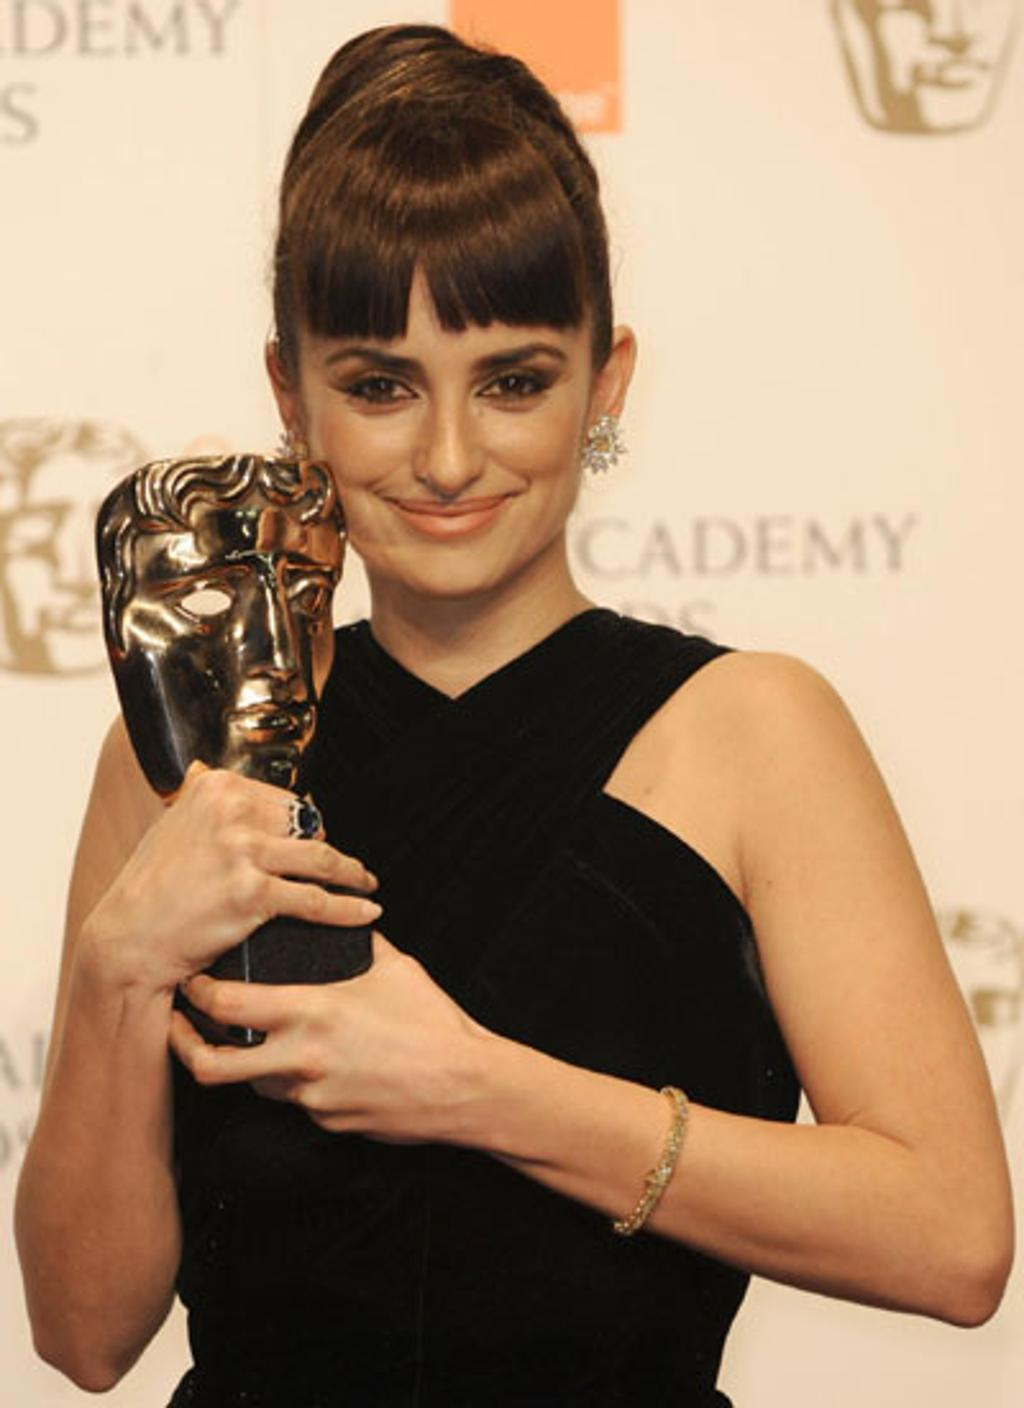face: (295, 149, 609, 600)
